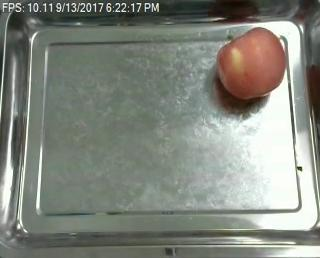apple: (216, 27, 286, 100)
